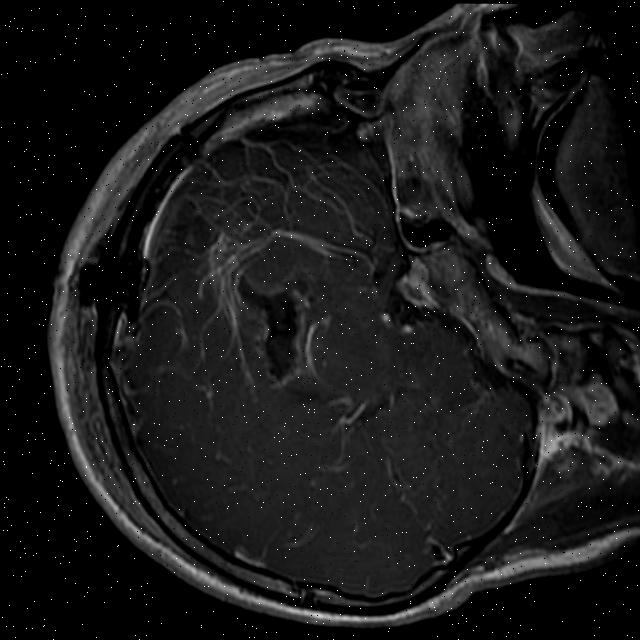Glioma: (229, 267, 317, 390)
